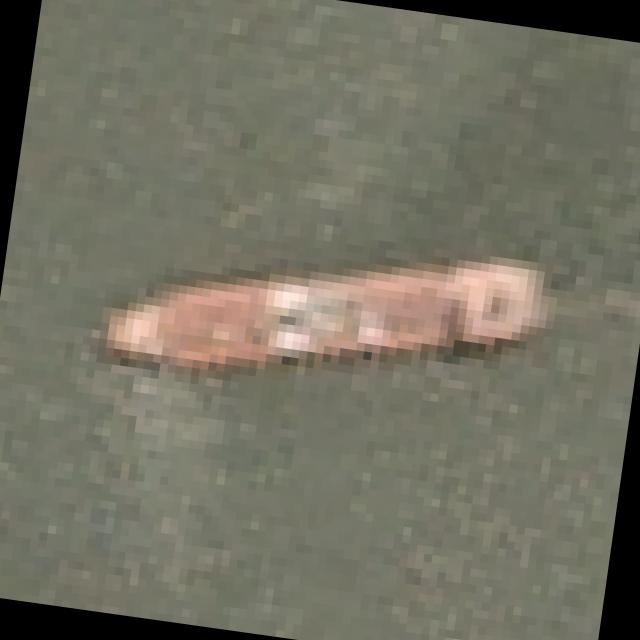ship: (0, 128, 613, 504)
